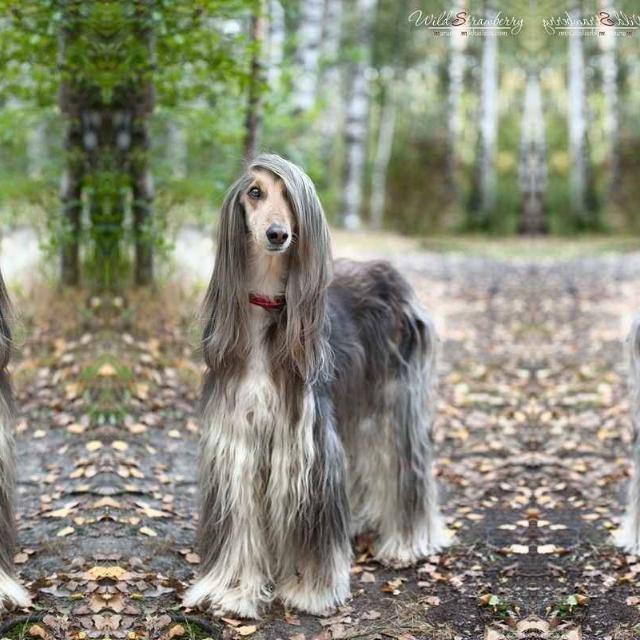dog: (179, 140, 461, 612), (604, 140, 640, 612), (0, 140, 33, 612)
